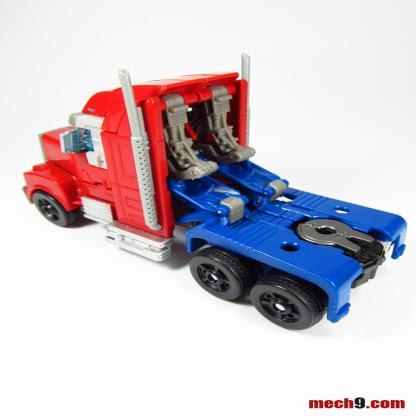Truck: (34, 58, 384, 347)
